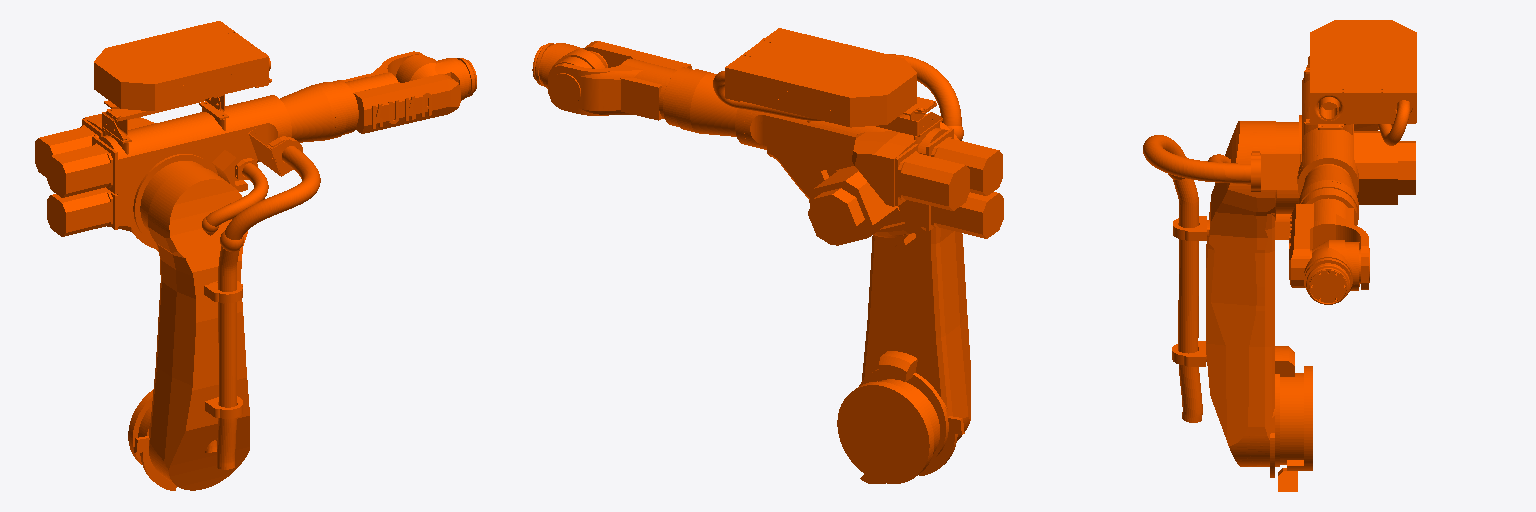
URDF robot description (kuka_kr60l45_4_ks):
<?xml version="1.0"?>
<robot name="kuka_kr60l45_4_ks">
  <material name="kuka_orange"><color rgba="1.00 0.40 0.00 1.0"/></material>
  <material name="kuka_dark_gray"><color rgba="0.20 0.20 0.20 1.0"/></material>

  <link name="base_link">
    <inertial>
      <origin xyz="-0.209662 0.068141 0.148241" rpy="0 0 0"/>
      <mass value="106.667"/>
      <inertia ixx="7.806357" ixy="2.383899" ixz="2.127274" iyy="13.710486" iyz="-0.340143" izz="13.964669"/>
    </inertial>
    <visual>
      <origin xyz="0 0 0" rpy="0 0 0"/>
      <geometry><mesh filename="meshes/visual/base_link.stl"/></geometry>
      <material name="kuka_dark_gray"/>
    </visual>
    <collision>
      <origin xyz="0 0 0" rpy="0 0 0"/>
      <geometry><mesh filename="meshes/visual/base_link.stl"/></geometry>
    </collision>
  </link>

  <link name="link_1">
    <inertial>
      <origin xyz="0.150341 -0.019658 0.302743" rpy="0 0 0"/>
      <mass value="80.700"/>
      <inertia ixx="4.122171" ixy="-0.104837" ixz="0.102028" iyy="3.749706" iyz="0.083041" izz="6.237143"/>
    </inertial>
    <visual>
      <origin xyz="0 0 0" rpy="0 0 0"/>
      <geometry><mesh filename="meshes/visual/link_1.stl"/></geometry>
      <material name="kuka_orange"/>
    </visual>
    <collision>
      <origin xyz="0 0 0" rpy="0 0 0"/>
      <geometry><mesh filename="meshes/visual/link_1.stl"/></geometry>
    </collision>
  </link>

  <link name="link_2">
    <inertial>
      <origin xyz="-0.000086 -0.251044 0.391503" rpy="0 0 0"/>
      <mass value="138.100"/>
      <inertia ixx="10.640532" ixy="-0.005787" ixz="0.027738" iyy="10.080696" iyz="0.609276" izz="1.912364"/>
    </inertial>
    <visual>
      <origin xyz="0 0 0" rpy="0 0 0"/>
      <geometry><mesh filename="meshes/visual/link_2.stl"/></geometry>
      <material name="kuka_orange"/>
    </visual>
    <collision>
      <origin xyz="0 0 0" rpy="0 0 0"/>
      <geometry><mesh filename="meshes/visual/link_2.stl"/></geometry>
    </collision>
  </link>

  <link name="link_3">
    <inertial>
      <origin xyz="0.065174 0.010543 0.167006" rpy="0 0 0"/>
      <mass value="151.900"/>
      <inertia ixx="4.193551" ixy="0.478364" ixz="-0.731108" iyy="7.045789" iyz="-0.508380" izz="6.853770"/>
    </inertial>
    <visual>
      <origin xyz="0 0 0" rpy="0 0 0"/>
      <geometry><mesh filename="meshes/visual/link_3.stl"/></geometry>
      <material name="kuka_orange"/>
    </visual>
    <collision>
      <origin xyz="0 0 0" rpy="0 0 0"/>
      <geometry><mesh filename="meshes/visual/link_3.stl"/></geometry>
    </collision>
  </link>

  <link name="link_4">
    <inertial>
      <origin xyz="-0.182562 -0.009896 -0.000183" rpy="0 0 0"/>
      <mass value="49.800"/>
      <inertia ixx="0.327413" ixy="-0.023615" ixz="0.000790" iyy="0.683355" iyz="-0.000452" izz="0.815164"/>
    </inertial>
    <visual>
      <origin xyz="0 0 0" rpy="0 0 0"/>
      <geometry><mesh filename="meshes/visual/link_4.stl"/></geometry>
      <material name="kuka_orange"/>
    </visual>
    <collision>
      <origin xyz="0 0 0" rpy="0 0 0"/>
      <geometry><mesh filename="meshes/visual/link_4.stl"/></geometry>
    </collision>
  </link>

  <link name="link_5">
    <inertial>
      <origin xyz="0.047437 0.017309 0.000057" rpy="0 0 0"/>
      <mass value="38.200"/>
      <inertia ixx="0.142504" ixy="0.023599" ixz="0.000822" iyy="0.203059" iyz="0.000159" izz="0.212852"/>
    </inertial>
    <visual>
      <origin xyz="0 0 0" rpy="0 0 0"/>
      <geometry><mesh filename="meshes/visual/link_5.stl"/></geometry>
      <material name="kuka_orange"/>
    </visual>
    <collision>
      <origin xyz="0 0 0" rpy="0 0 0"/>
      <geometry><mesh filename="meshes/visual/link_5.stl"/></geometry>
    </collision>
  </link>

  <link name="link_6">
    <inertial>
      <origin xyz="-0.003920 -0.000501 0.000567" rpy="0 0 0"/>
      <mass value="20.400"/>
      <inertia ixx="0.052539" ixy="0.000000" ixz="0.000024" iyy="0.036800" iyz="-0.000003" izz="0.036478"/>
    </inertial>
    <visual>
      <origin xyz="0 0 0" rpy="0 0 0"/>
      <geometry><mesh filename="meshes/visual/link_6.stl"/></geometry>
      <material name="kuka_dark_gray"/>
    </visual>
    <collision>
      <origin xyz="0 0 0" rpy="0 0 0"/>
      <geometry><mesh filename="meshes/visual/link_6.stl"/></geometry>
    </collision>
  </link>

  <link name="tool0"/>

  <joint name="joint_a1" type="revolute">
    <parent link="base_link"/>
    <child link="link_1"/>
    <origin xyz="0.000000 0.000000 0.000000" rpy="0 0 0"/>
    <axis xyz="0.0 0.0 -1.0"/>
    <limit lower="-2.617994" upper="2.617994" effort="4250.0" velocity="2.648794"/>
    <dynamics damping="5.0" friction="1.0"/>
  </joint>

  <joint name="joint_a2" type="revolute">
    <parent link="link_1"/>
    <child link="link_2"/>
    <origin xyz="0.550000 0.000000 0.250000" rpy="0 0 0"/>
    <axis xyz="0.0 1.0 0.0"/>
    <limit lower="-0.261799" upper="2.879793" effort="4250.0" velocity="2.449585"/>
    <dynamics damping="5.0" friction="1.0"/>
  </joint>

  <joint name="joint_a3" type="revolute">
    <parent link="link_2"/>
    <child link="link_3"/>
    <origin xyz="0.000000 0.000000 0.850000" rpy="0 0 0"/>
    <axis xyz="0.0 1.0 0.0"/>
    <limit lower="-3.665191" upper="1.186824" effort="4250.0" velocity="3.193581"/>
    <dynamics damping="5.0" friction="1.0"/>
  </joint>

  <joint name="joint_a4" type="revolute">
    <parent link="link_3"/>
    <child link="link_4"/>
    <origin xyz="1.020000 0.000000 0.145000" rpy="0 0 0"/>
    <axis xyz="-1.0 0.0 -0.0"/>
    <limit lower="-6.108652" upper="6.108652" effort="300.0" velocity="5.511981"/>
    <dynamics damping="5.0" friction="1.0"/>
  </joint>

  <joint name="joint_a5" type="revolute">
    <parent link="link_4"/>
    <child link="link_5"/>
    <origin xyz="0.000000 0.000000 0.000000" rpy="0 0 0"/>
    <axis xyz="0.0 1.0 0.0"/>
    <limit lower="-2.076942" upper="2.076942" effort="380.0" velocity="5.200084"/>
    <dynamics damping="5.0" friction="1.0"/>
  </joint>

  <joint name="joint_a6" type="revolute">
    <parent link="link_5"/>
    <child link="link_6"/>
    <origin xyz="0.170000 0.000000 0.000000" rpy="0 0 0"/>
    <axis xyz="-1.0 0.0 -0.0"/>
    <limit lower="-6.108652" upper="6.108652" effort="200.0" velocity="6.837075"/>
    <dynamics damping="5.0" friction="1.0"/>
  </joint>

  <joint name="link_6-tool0" type="fixed">
    <parent link="link_6"/>
    <child link="tool0"/>
    <origin xyz="0.000000 0.000000 0.000000" rpy="0 1.57079632679 0"/>
  </joint>
</robot>

--- Facts derived from the render (not from the file) ---
3 views of the same robot in one strip: view 1: azimuth 30°, elevation 25°; view 2: azimuth 150°, elevation 25°; view 3: azimuth 270°, elevation 25° (orthographic).
Robot: kuka_kr60l45_4_ks — 8 links, 7 joints (6 revolute, 1 fixed); root link base_link; default pose: every joint at zero.
Visible links, largest first — view 1: link_3, link_2, link_4, link_5; view 2: link_3, link_2, link_4, link_5; view 3: link_2, link_3, link_4, link_5.
Boxes of the visible links, box(x1,y1,x2,y2) form: link_3: box(35, 21, 335, 251); link_2: box(128, 161, 249, 490); link_4: box(318, 51, 460, 139); link_5: box(396, 54, 476, 100); link_3: box(687, 28, 1003, 247); link_2: box(837, 114, 970, 483); link_4: box(548, 41, 706, 131); link_5: box(532, 43, 607, 88); link_2: box(1168, 121, 1312, 491); link_3: box(1143, 20, 1416, 204); link_4: box(1289, 181, 1369, 289); link_5: box(1304, 240, 1359, 304).
Bounding box of the posed robot: 1.59 × 0.8431 × 1.48 m (x, y, z).
Meshes: 7 distinct files referenced, 4 mesh visuals loaded (4 binary STL); not drawn: 3 (reference not matched to a file when rendering).
